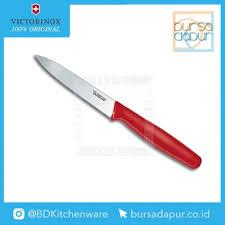knives: (34, 43, 205, 176)
